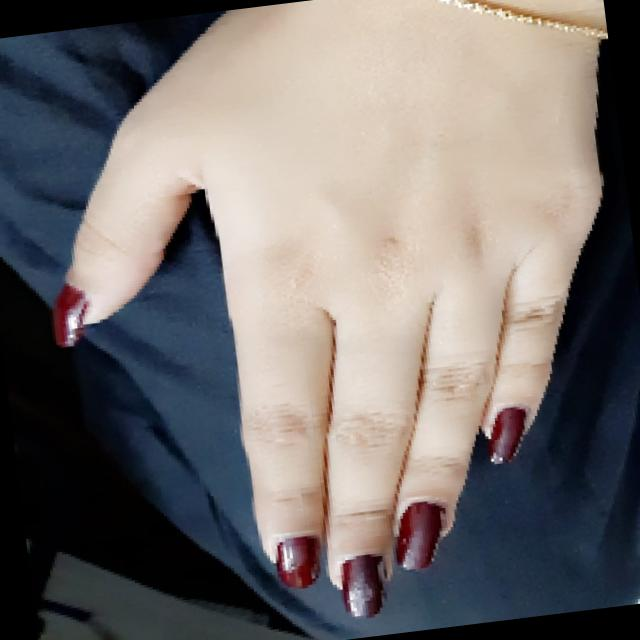Nail: (394, 500, 440, 569), (340, 554, 381, 616), (275, 534, 318, 586), (51, 284, 86, 345), (486, 407, 523, 463)
